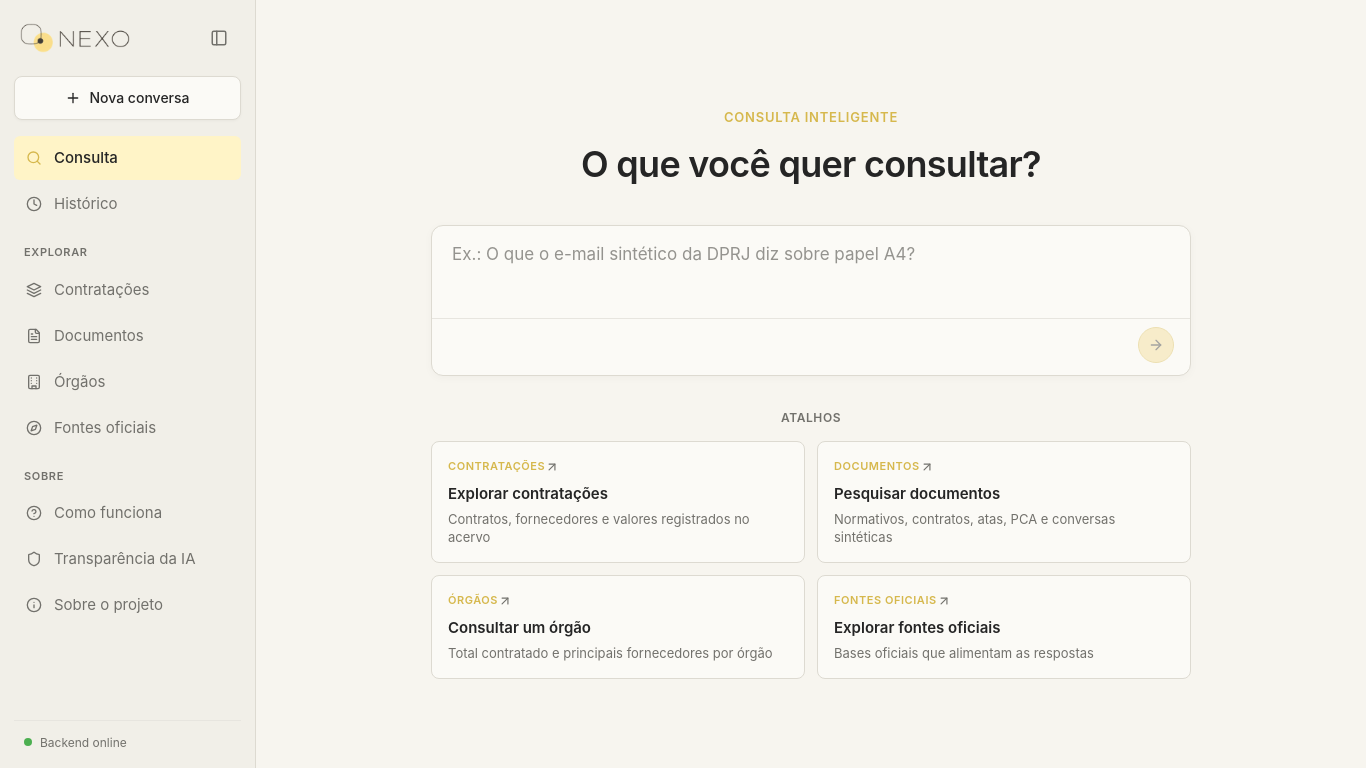
Integração do chat com /api/v1/query › saudação é exibida como conversa normal, sem recusa nem evidência inventada
In the text box named "Pergunta sobre contratações públicas": [811, 272] box [452,242,1170,302], type "Olá"
Then press Enter
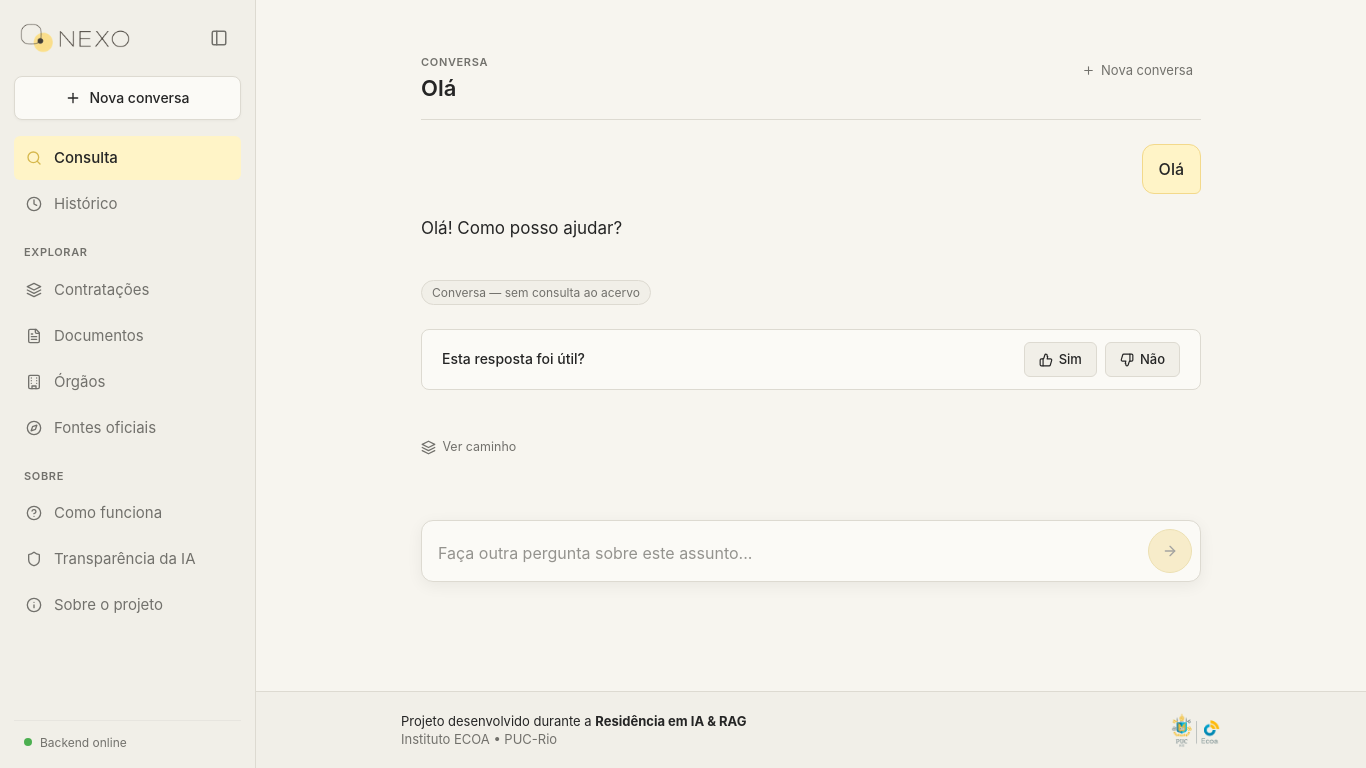
Expected: the text "Olá! Como posso ajudar?" is shown, [421,218,622,238]
Expected: the text "Conversa — sem consulta ao acervo" is shown, [421,280,651,305]
